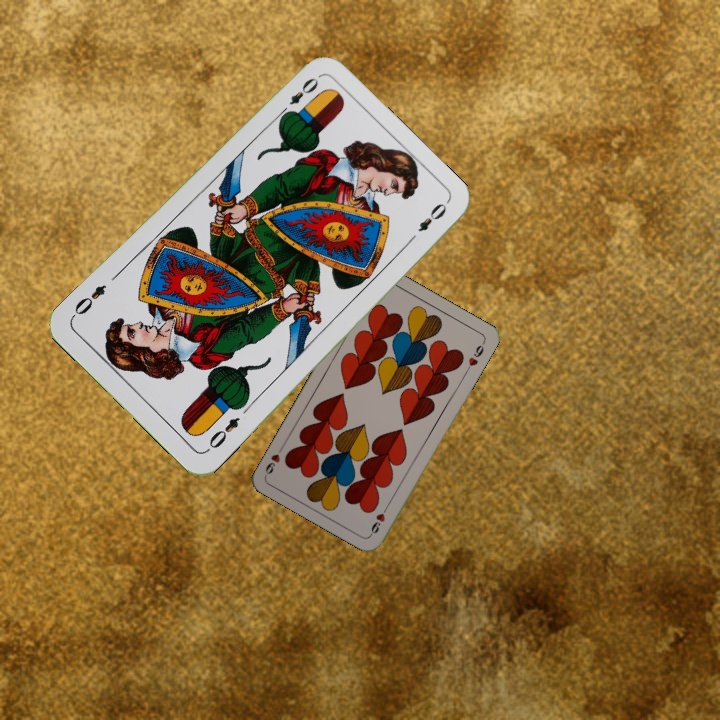EO: (275, 73, 321, 120), (202, 413, 243, 455)
H9: (367, 500, 392, 538)
